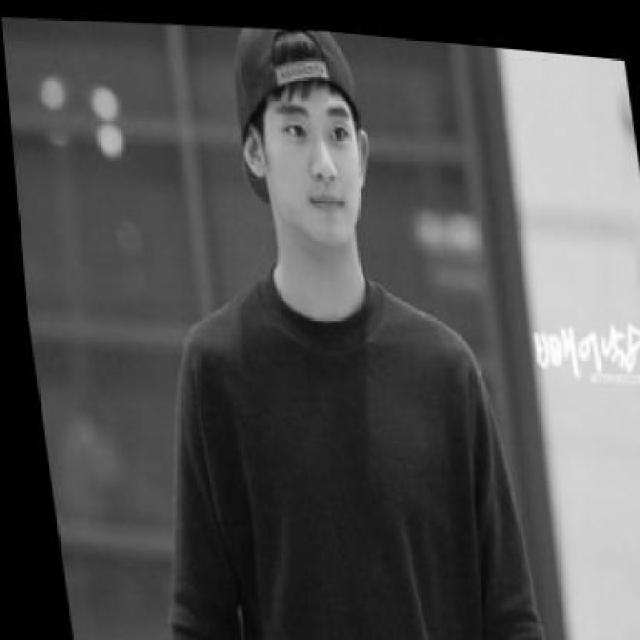hat: (223, 17, 371, 209)
